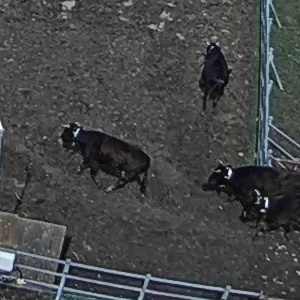cow: (51, 108, 166, 204), (195, 147, 300, 199), (182, 32, 243, 119), (237, 185, 300, 227)
